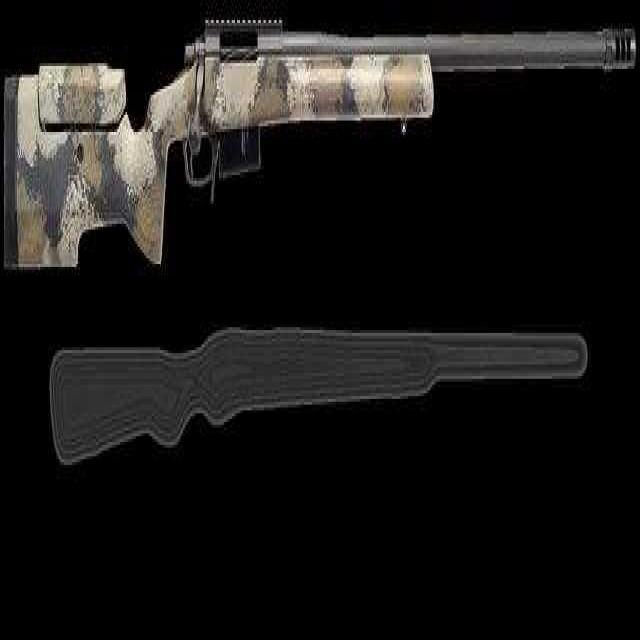weapon: (1, 0, 639, 290)
